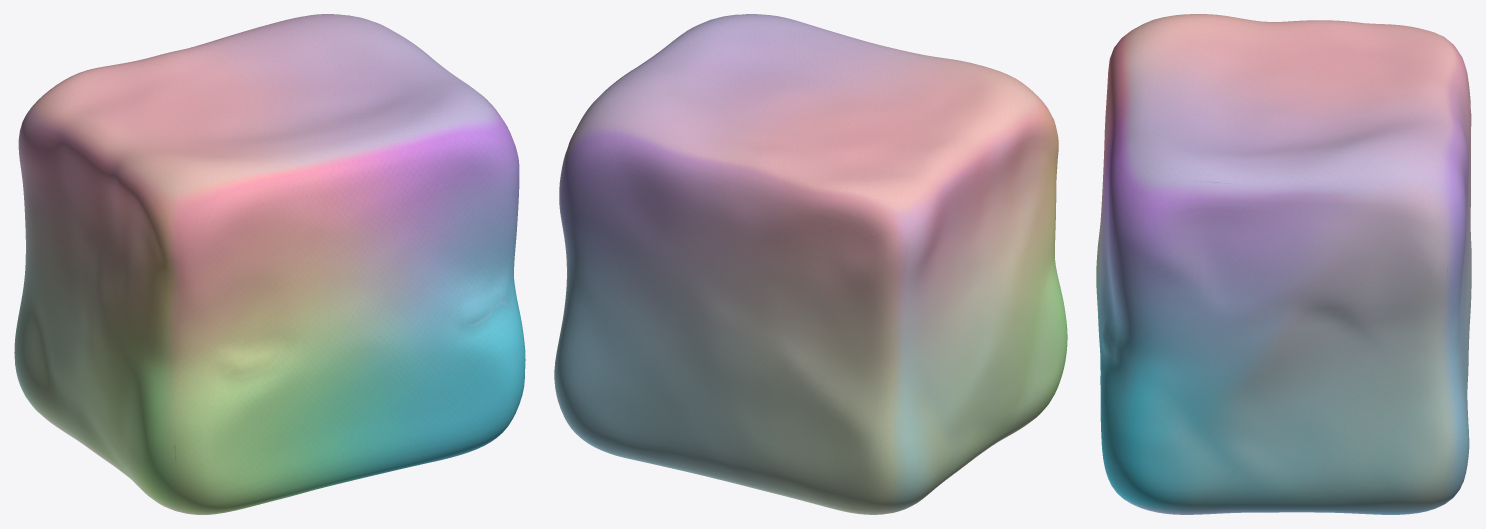
File: Meshy_AI_Squishy_Jelly_Cube_0823123753_image-to-3d-texture.obj
The picture shows the model from 3 angles, left to right: view 1: azimuth 30°, elevation 25°; view 2: azimuth 150°, elevation 25°; view 3: azimuth 270°, elevation 25°; orthographic projection. The views are drawn at different scales.
Visible parts, largest first — view 1: Meshy_AI_Squishy_Jelly_Cube_0823123753_image-to-3d-texture; view 2: Meshy_AI_Squishy_Jelly_Cube_0823123753_image-to-3d-texture; view 3: Meshy_AI_Squishy_Jelly_Cube_0823123753_image-to-3d-texture.
Part boxes in pixels (left/top/right/bottom): Meshy_AI_Squishy_Jelly_Cube_0823123753_image-to-3d-texture: left=14, top=14, right=525, bottom=514; Meshy_AI_Squishy_Jelly_Cube_0823123753_image-to-3d-texture: left=554, top=14, right=1067, bottom=514; Meshy_AI_Squishy_Jelly_Cube_0823123753_image-to-3d-texture: left=1096, top=14, right=1471, bottom=514.
Bounding box in the file's own units: 1.9 × 1.68 × 1.58.
1 material, 1 textured.
